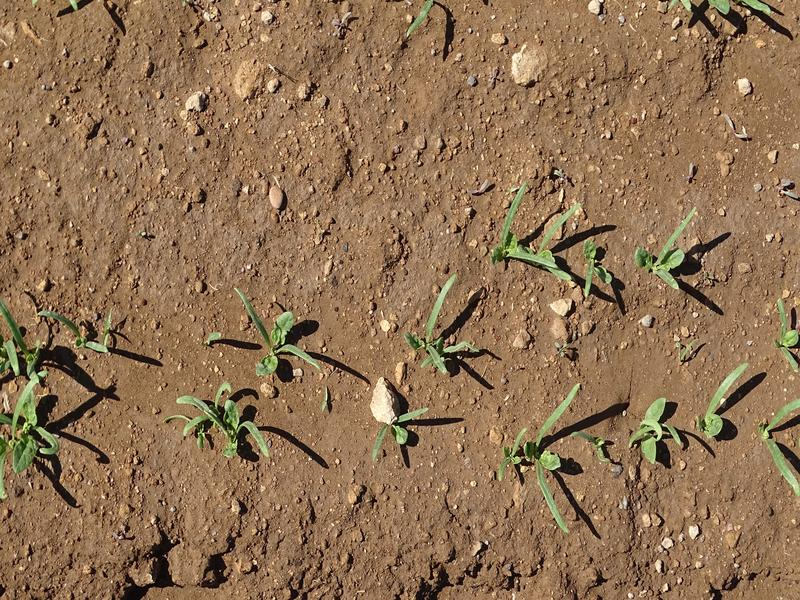Espinaca: (178, 287, 325, 473), (4, 301, 123, 465), (481, 195, 613, 297), (409, 280, 471, 370), (638, 207, 694, 290), (371, 407, 423, 463)
